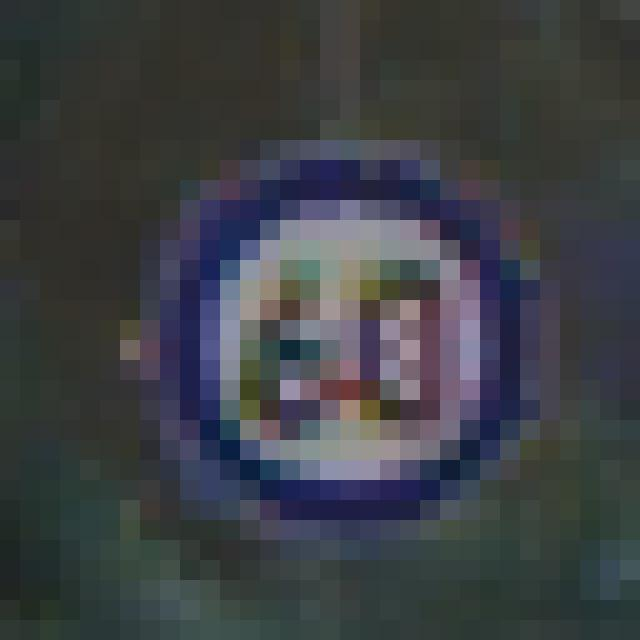SPEED-LIMIT-60: (120, 132, 549, 541)
